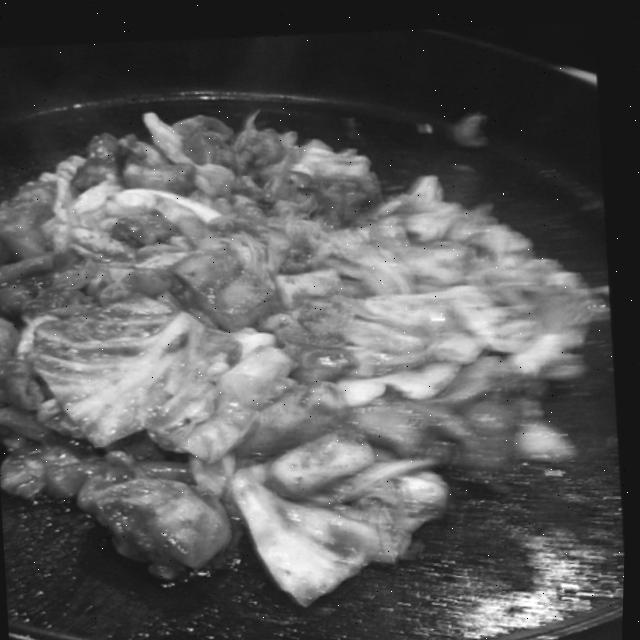鸡肉料理 含炸鸡: (0, 55, 625, 638)
